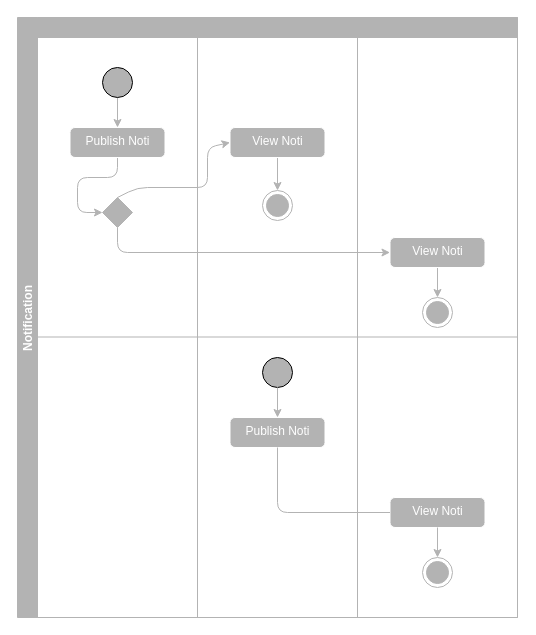
This 536x635 diagram has some shape labels left out. The shapes that lost their labels are listed below. From the top down, each one's box as (x1, y1, x2, y2) in pixels, then its label:
(36, 16, 198, 618): Administrator
(196, 16, 358, 618): Professor
(356, 16, 518, 618): Student
